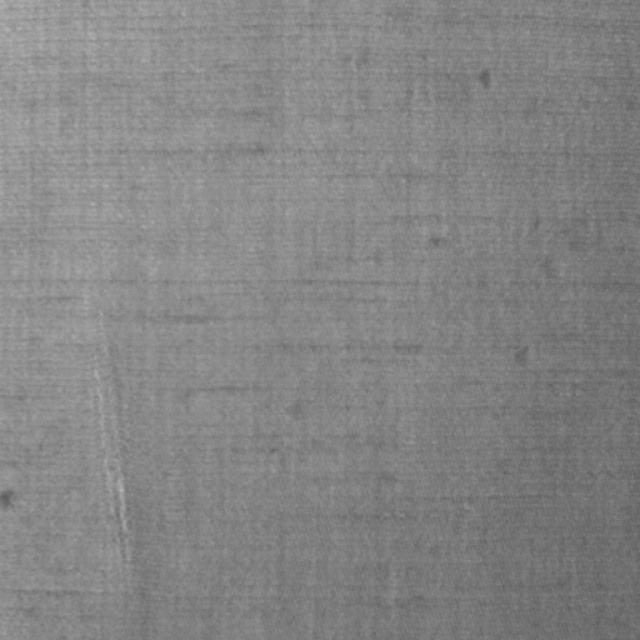thread error: (87, 302, 138, 600)
